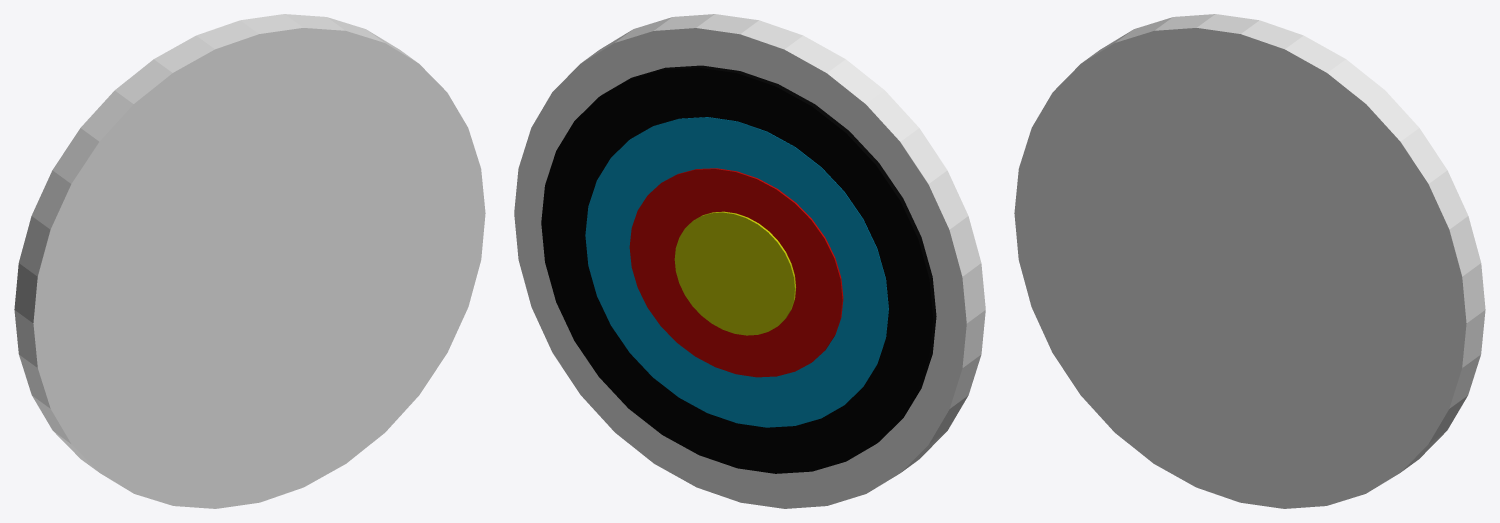
The model's file is target.glb.
The picture shows the model from 3 angles, left to right: view 1: azimuth 30°, elevation 25°; view 2: azimuth 150°, elevation 25°; view 3: azimuth 330°, elevation 25°; orthographic projection.
Visible parts, largest first — view 1: 円柱.004; view 2: 円柱.004, 円柱, 円柱.001, 円柱.002, 円柱.003; view 3: 円柱.004.
Boxes of the visible parts, x1=… form: 円柱.004: x1=14, y1=14, x2=485, y2=508; 円柱.004: x1=514, y1=14, x2=985, y2=508; 円柱: x1=541, y1=65, x2=936, y2=473; 円柱.001: x1=585, y1=117, x2=888, y2=427; 円柱.002: x1=629, y1=168, x2=843, y2=377; 円柱.003: x1=674, y1=211, x2=795, y2=335; 円柱.004: x1=1014, y1=14, x2=1485, y2=508.
Bounding box in the file's own units: 3.77 × 3.73 × 0.3601.
Materials: 4 (4 with a texture image).
